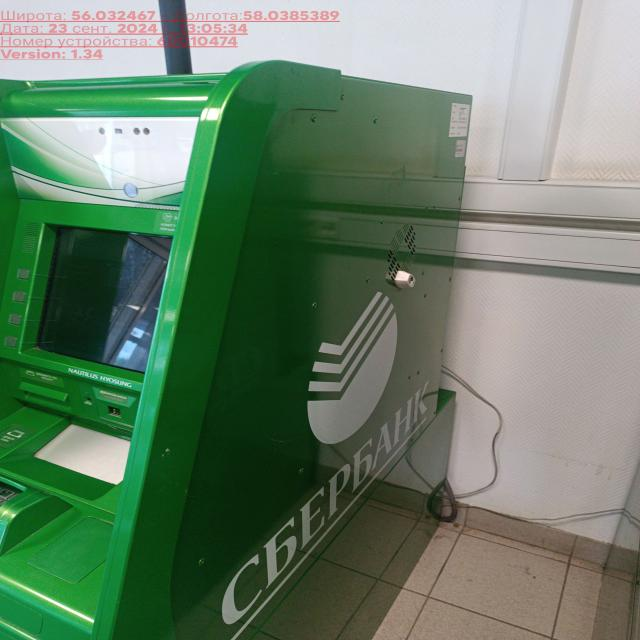bank: (0, 62, 477, 640)
